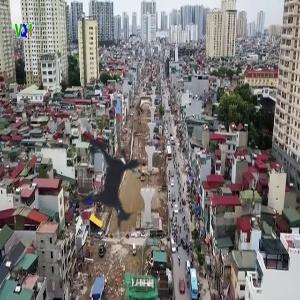drone: (14, 86, 202, 274)
